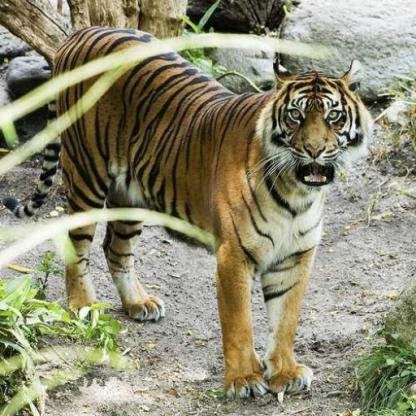Tiger: (43, 26, 393, 400)
